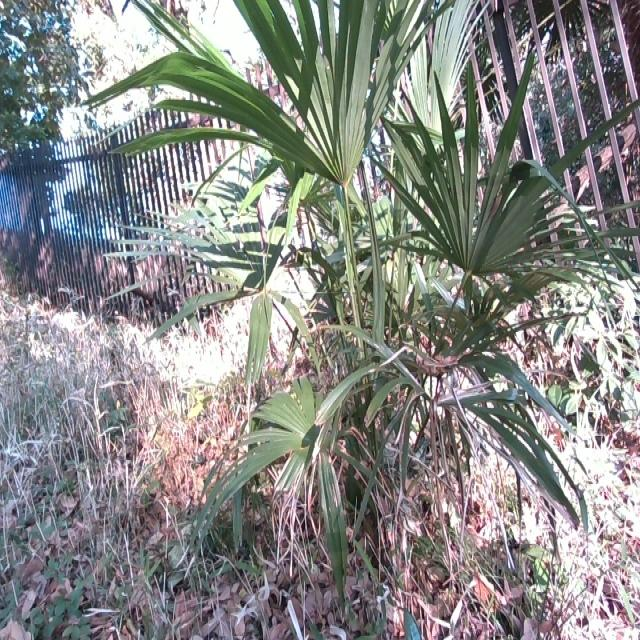artifact: (0, 58, 270, 338), (419, 0, 640, 284)
bush: (89, 0, 578, 607)
